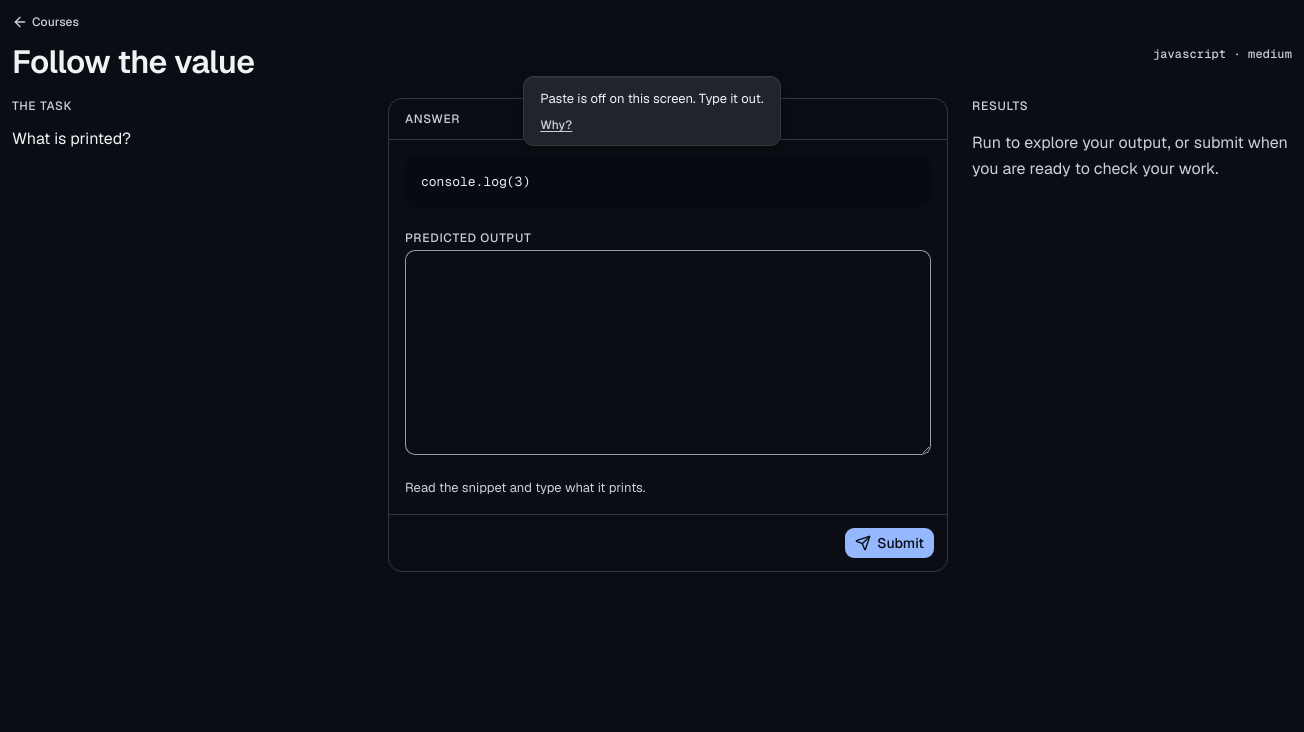
Test case: exercise screen › renders the rotating paste bank line and its "why" affordance, not the old static string
The width and height of the screenshot is (1304, 732).
Expected: the text "Paste is off on this screen. Type it out." is shown, x1=540 y1=89 x2=764 y2=109
Click the button "Why?". click: (556, 125)
box: x1=540 y1=117 x2=572 y2=133
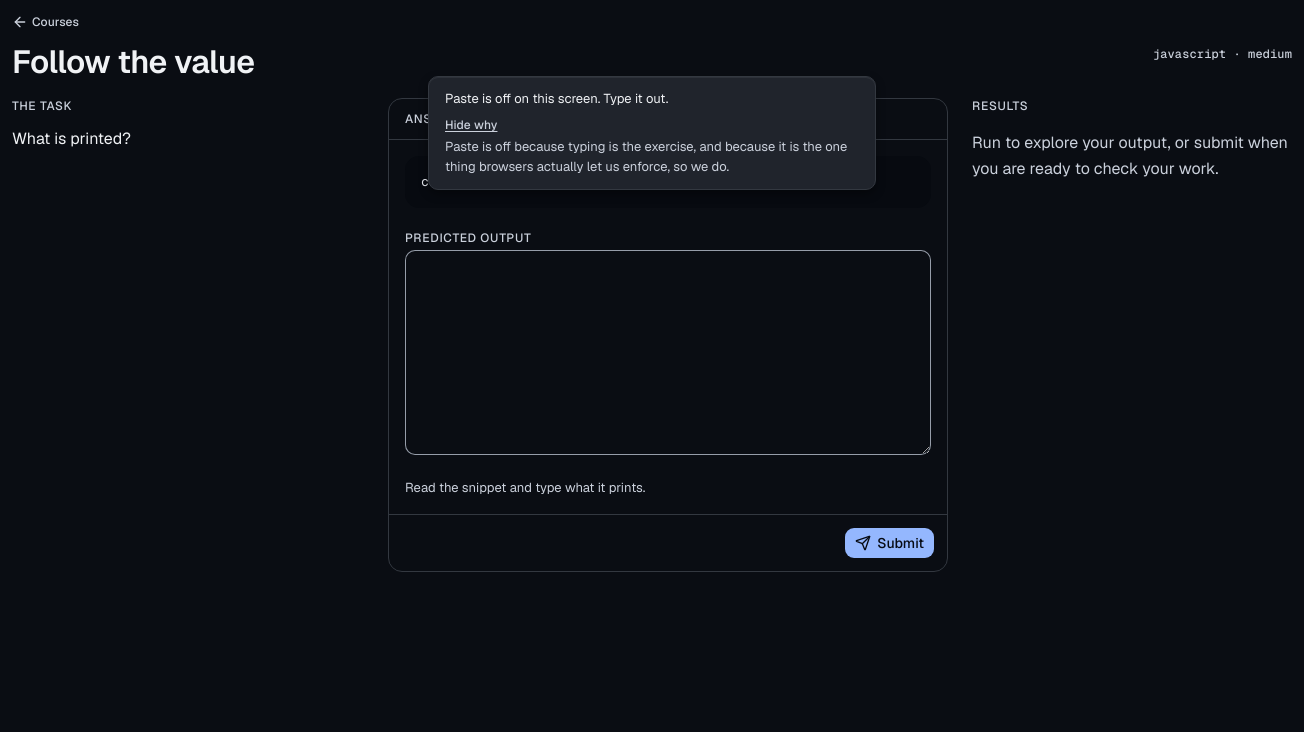
Now the text "Paste is off because typing is the exercise, and because it is the one thing browsers actually let us enforce, so we do." is shown, box x1=445 y1=138 x2=847 y2=175
